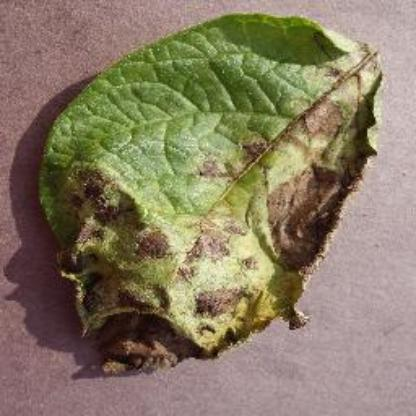Late-Blight: (34, 9, 386, 379)
